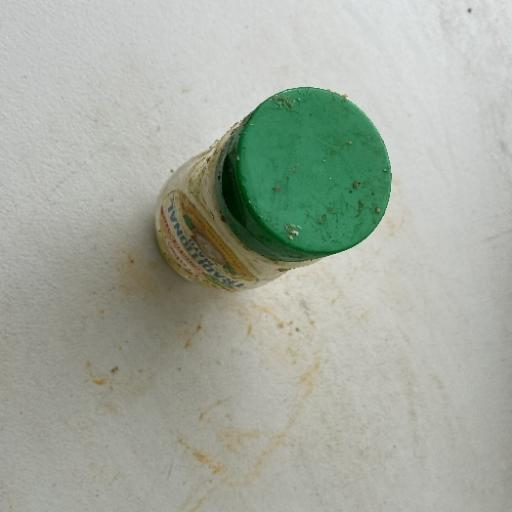Plastic: (151, 83, 395, 294)
